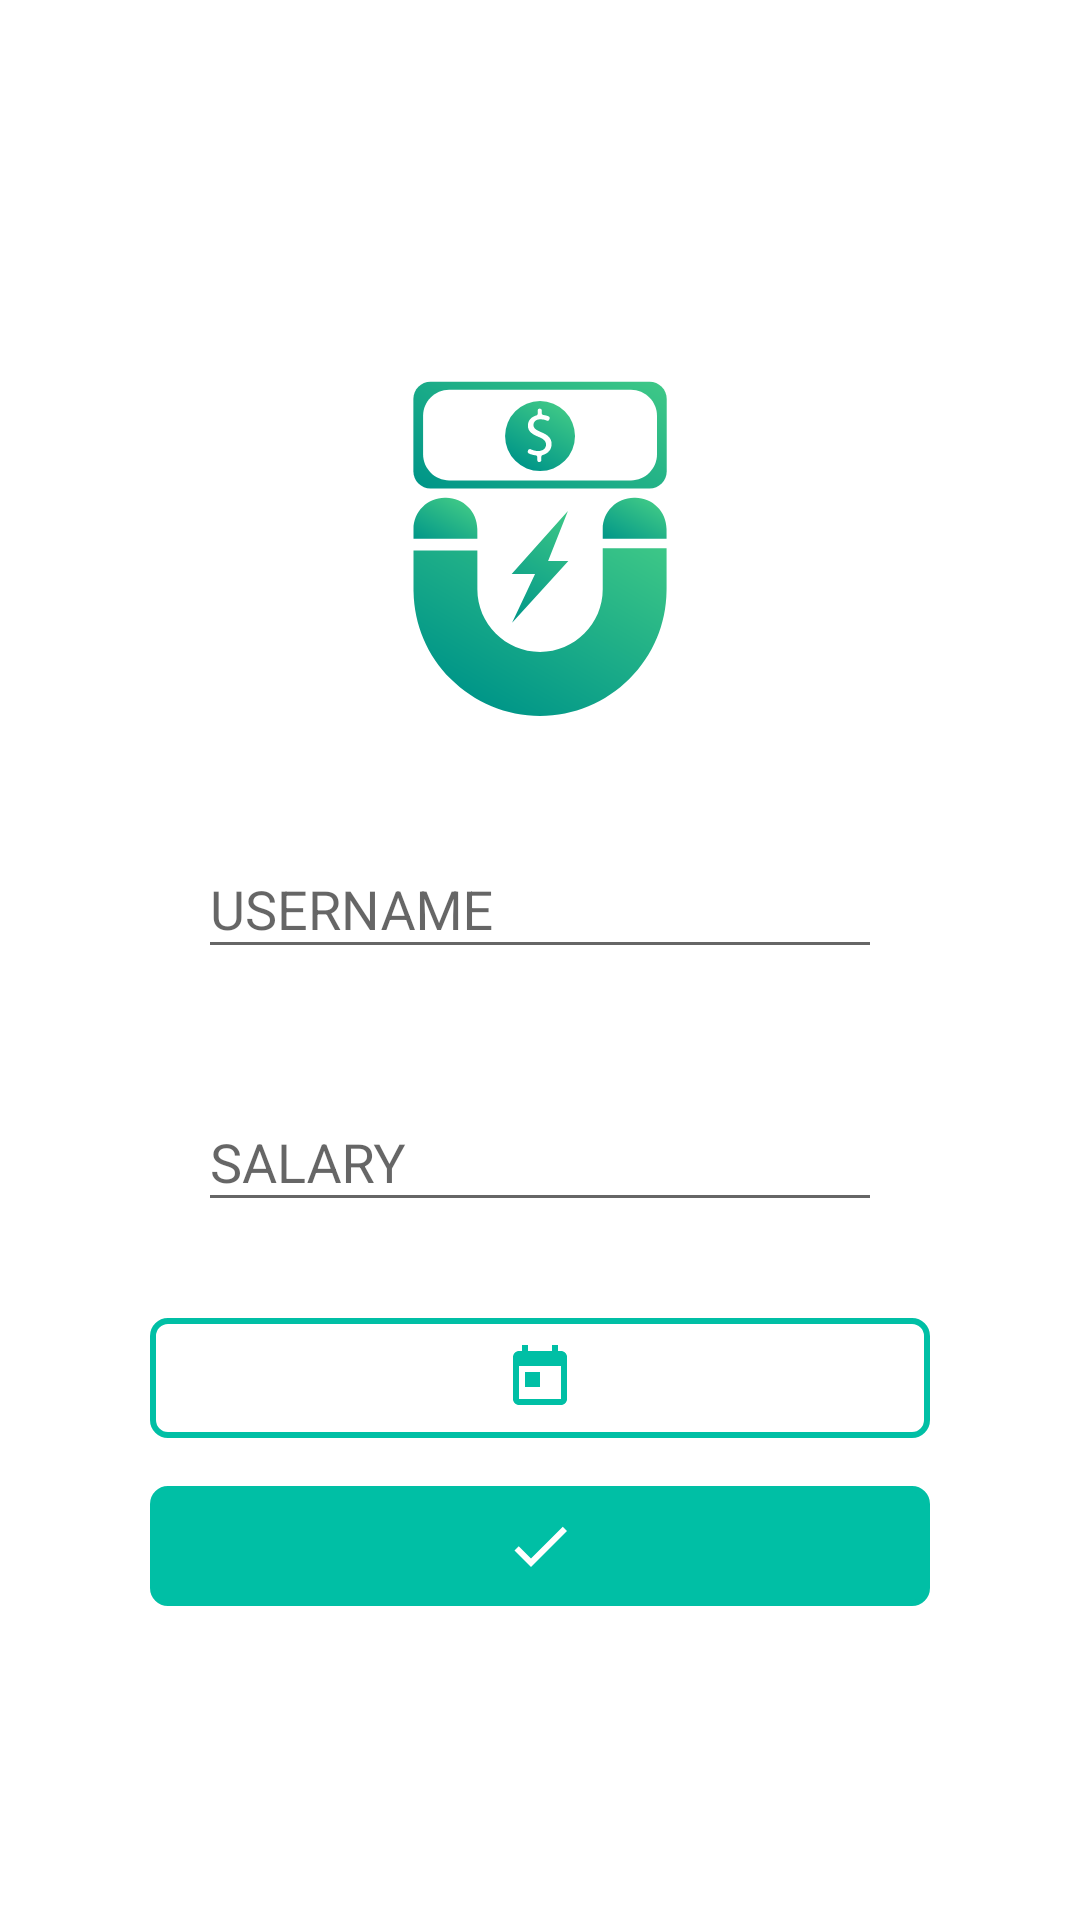

Screen size 1080×1920. Icon name, then its center in pixels as (x=x, y=y):
app: (x=540, y=548)
